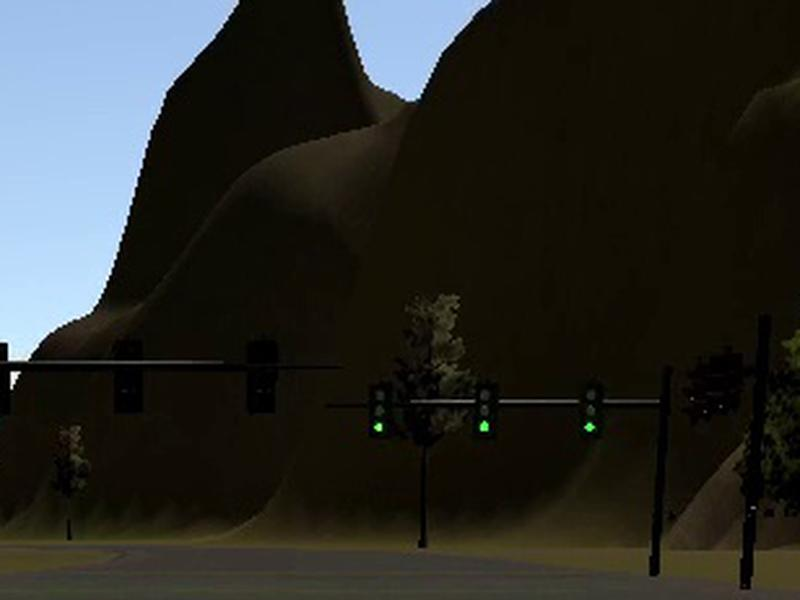Green: (368, 383, 394, 437), (579, 383, 604, 439), (472, 382, 497, 437)
